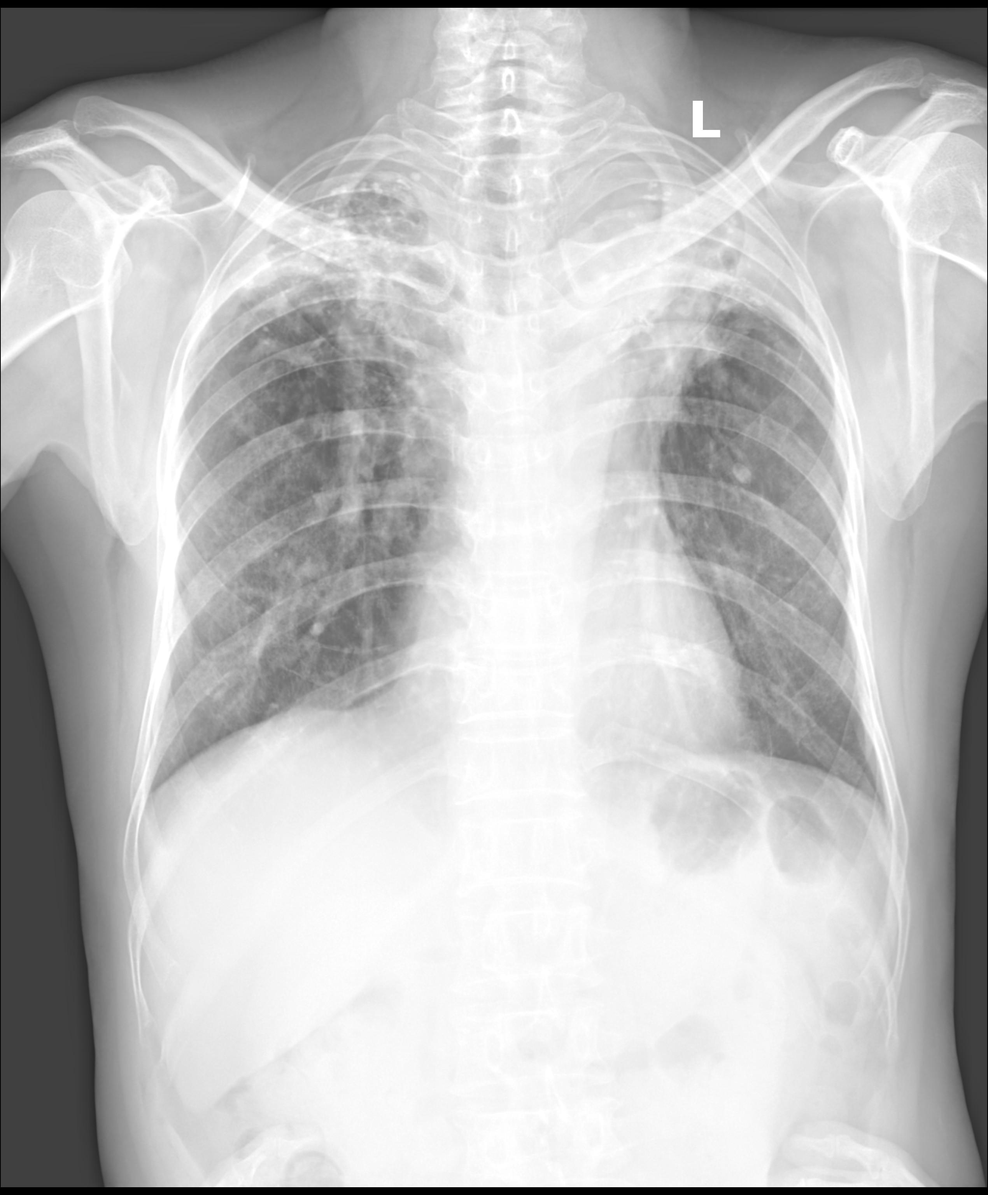Pleural thickening: (197, 214, 282, 296)
Pulmonary fibrosis: (571, 153, 765, 481), (219, 158, 438, 416)
